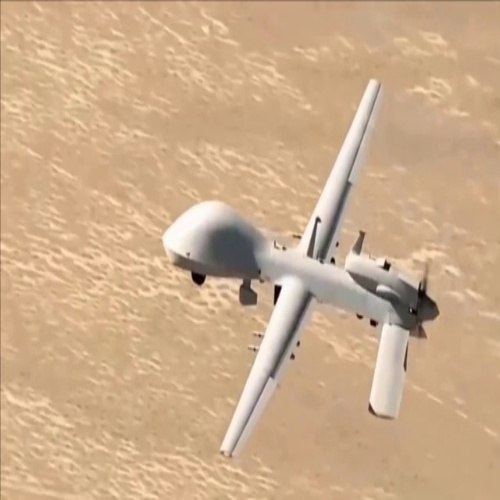uav767: (158, 72, 441, 461)
